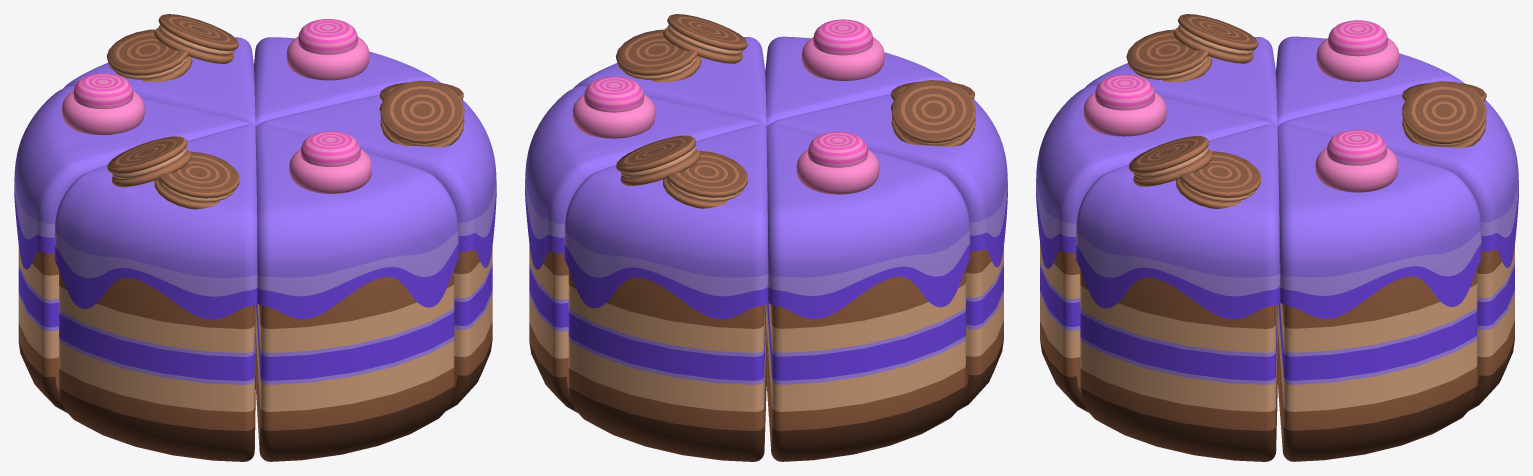
Rendered from PurpleCake.fbx.
3 views of the same model, side by side, from view 1: azimuth 30°, elevation 25°; view 2: azimuth 150°, elevation 25°; view 3: azimuth 270°, elevation 25° (orthographic).
Visible parts, largest first — view 1: Purple; view 2: Purple; view 3: Purple.
Part boxes in pixels (left/top/right/bottom): Purple: left=14, top=14, right=496, bottom=461; Purple: left=525, top=14, right=1007, bottom=461; Purple: left=1036, top=14, right=1518, bottom=461.
Bounding box in the file's own units: 58.19 × 39.35 × 58.13.
1 material, 1 textured.
